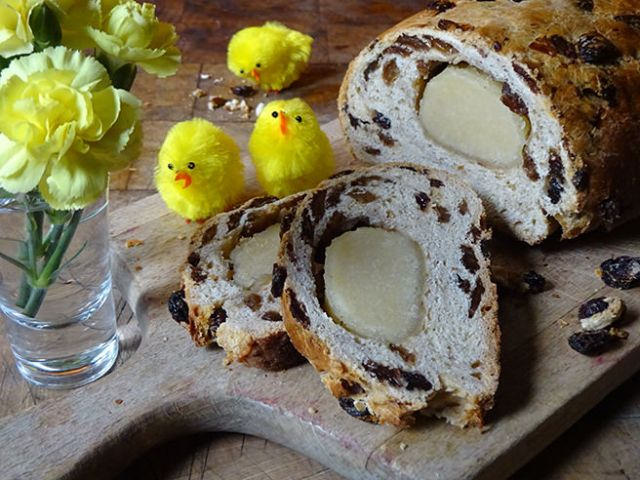slice of bread: (344, 7, 640, 250), (294, 174, 501, 427), (181, 214, 304, 362)
